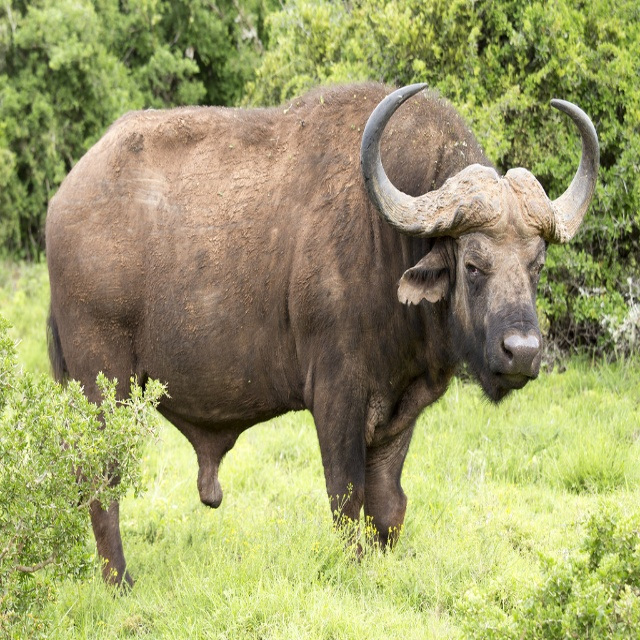Cattle: (45, 82, 599, 598)
